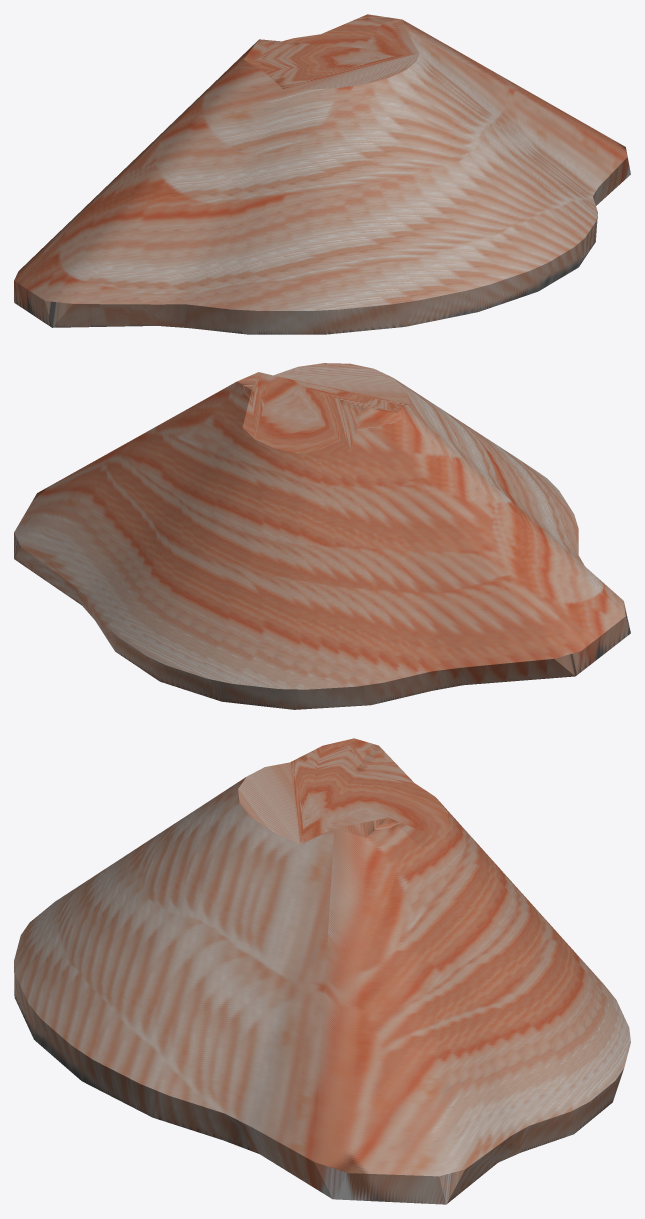
Rendered from roof5.fbx.
3 renders of one model, top to bottom at view 1: azimuth 30°, elevation 25°; view 2: azimuth 150°, elevation 25°; view 3: azimuth 270°, elevation 25°, orthographic. The views are drawn at different scales.
Parts seen in each view (by area): view 1: pCone3; view 2: pCone3; view 3: pCone3.
Part boxes in pixels (<box>): pCone3: <box>14,14,630,334</box>; pCone3: <box>14,363,630,709</box>; pCone3: <box>14,738,630,1204</box>.
Size of the model in its own units: 9041 by 3515 by 6749.
Materials: 1 (1 with a texture image).
